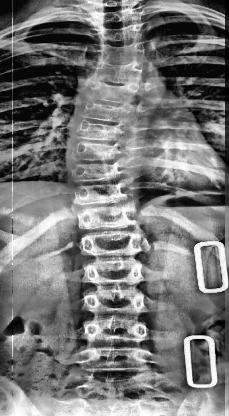Vertebrae: (74, 347, 152, 377), (75, 228, 147, 260), (79, 260, 151, 288), (83, 288, 147, 318), (78, 319, 151, 343), (76, 204, 138, 232), (73, 182, 139, 206), (84, 82, 144, 106), (98, 40, 148, 66), (60, 142, 128, 161), (69, 158, 127, 180), (89, 60, 141, 84), (77, 100, 133, 122), (66, 122, 132, 140), (99, 23, 148, 43)
